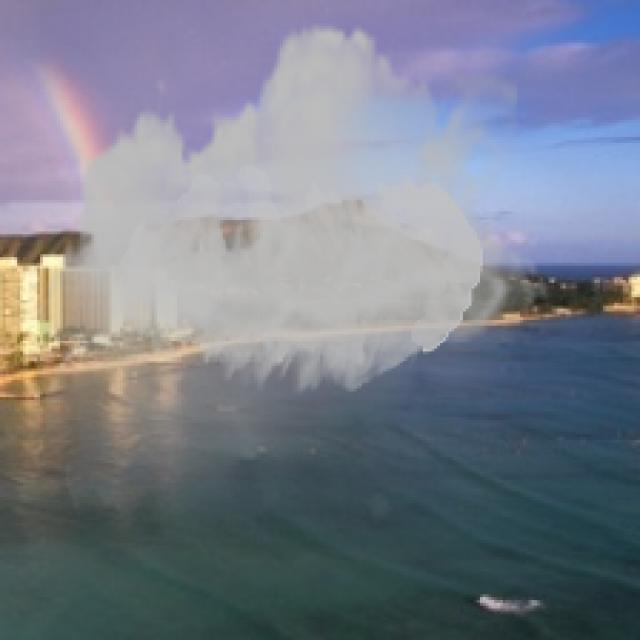smoke: (34, 3, 552, 546)
